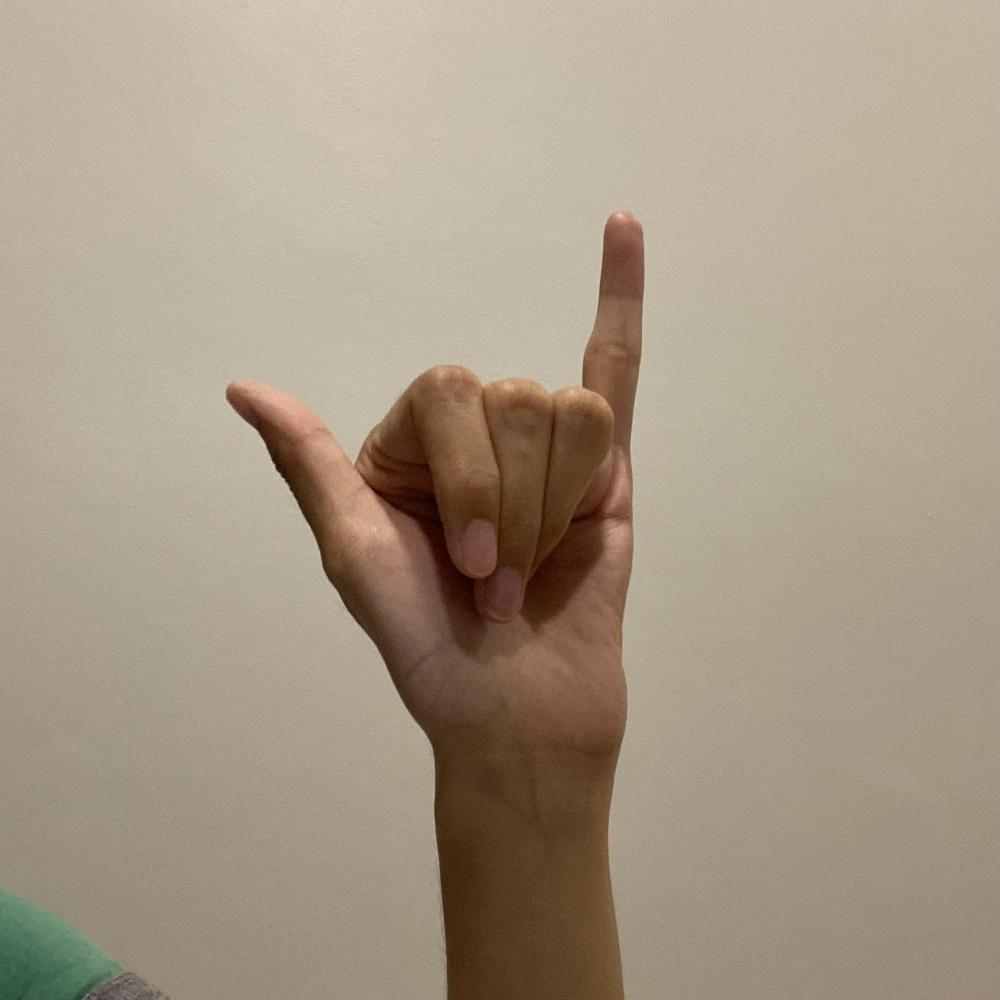y: (219, 205, 648, 769)
